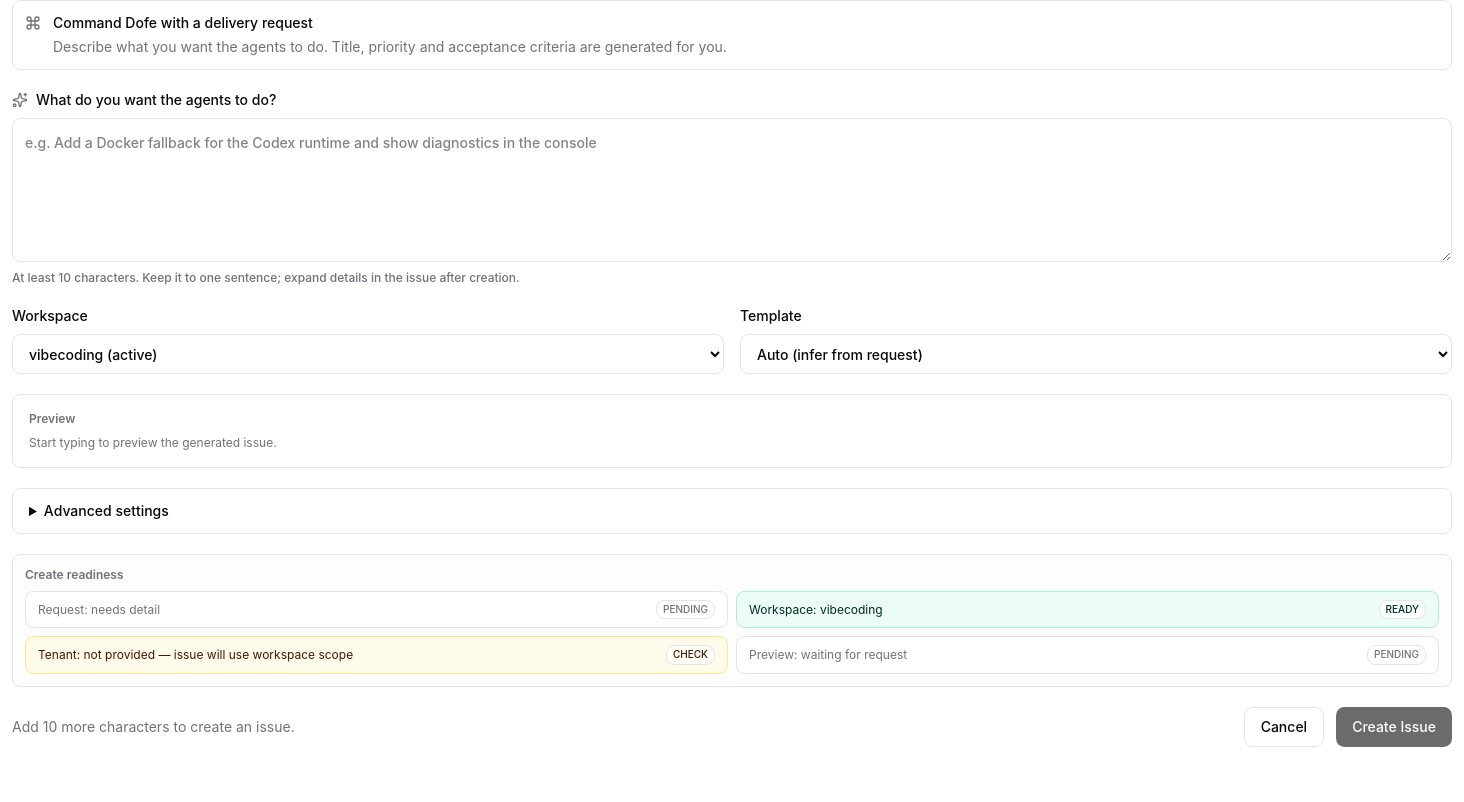
Scenario: SimpleLoopIssueForm (0622 · B5 simple-mode intake) › renders a live preview that shares the backend deterministic normalisation
Check: the text "Start typing to preview the generated issue." is shown, box [29,435,277,450]
Type "Add a summary card to the loops dashboard" into the text box with placeholder "Add a Docker fallback" at (732, 190), box [12,118,1452,262]
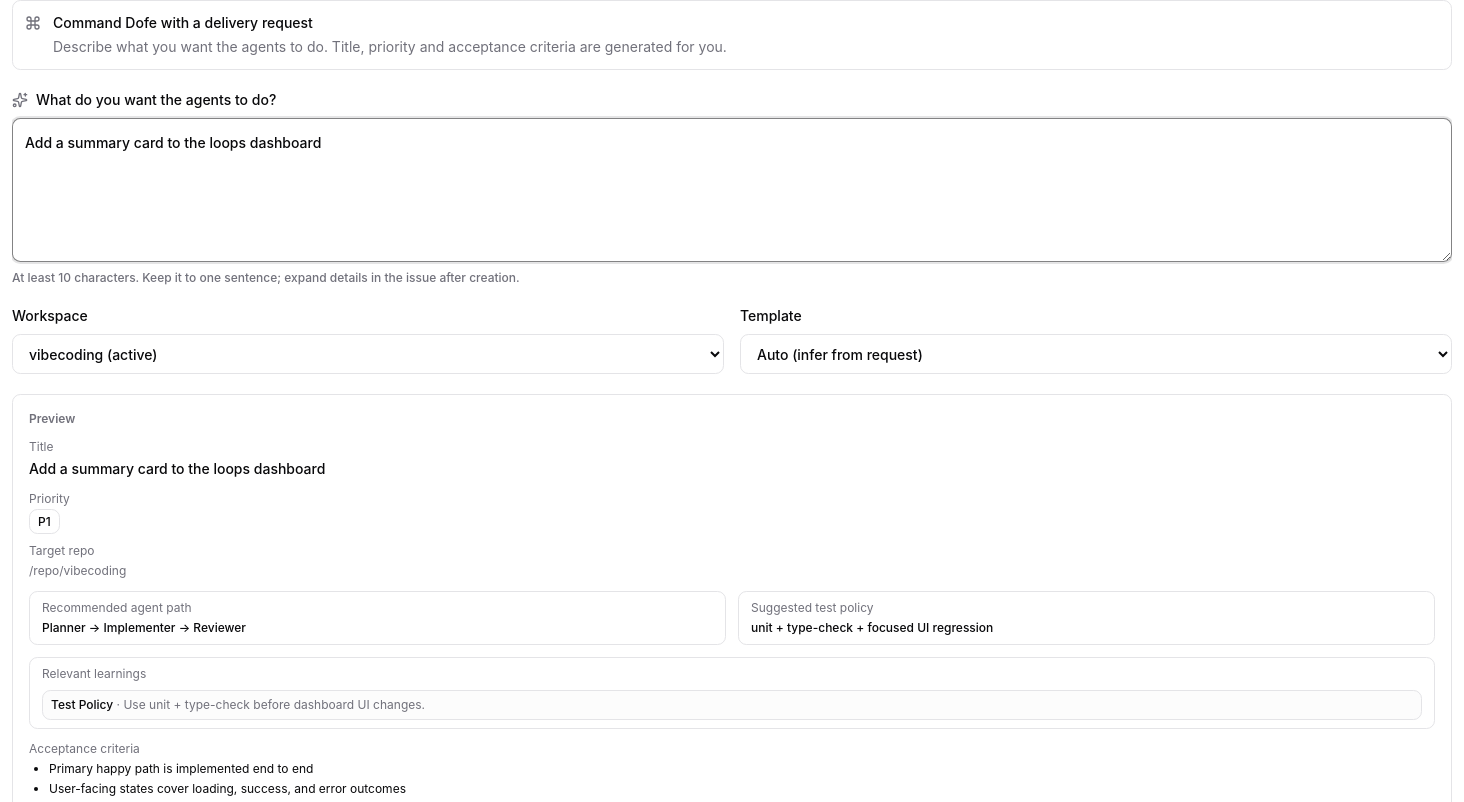
Check: the text "Add a summary card to the loops dashboard" is shown, box [29,460,325,477]
Check: the text "P1" is shown, box [29,509,60,534]
Check: the list item "Primary happy path is implemented end to end" is shown, box [49,761,313,776]
